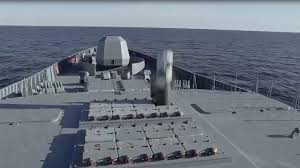ten_lua: (160, 51, 176, 105)
